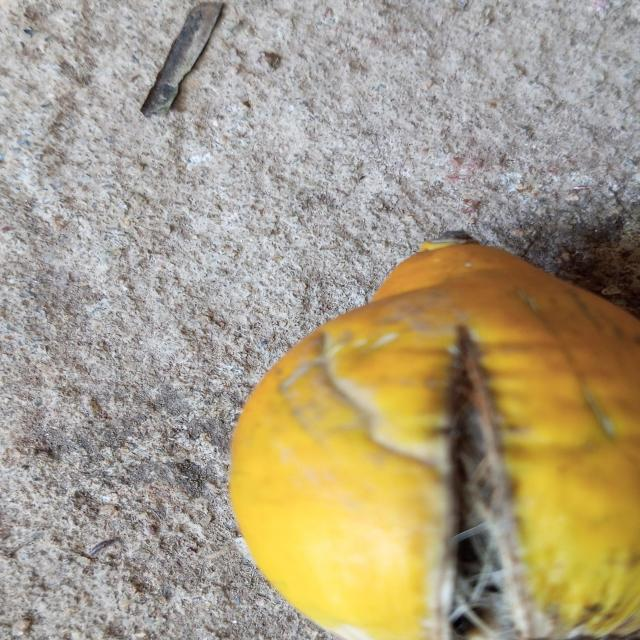damaged: (230, 231, 640, 640)
